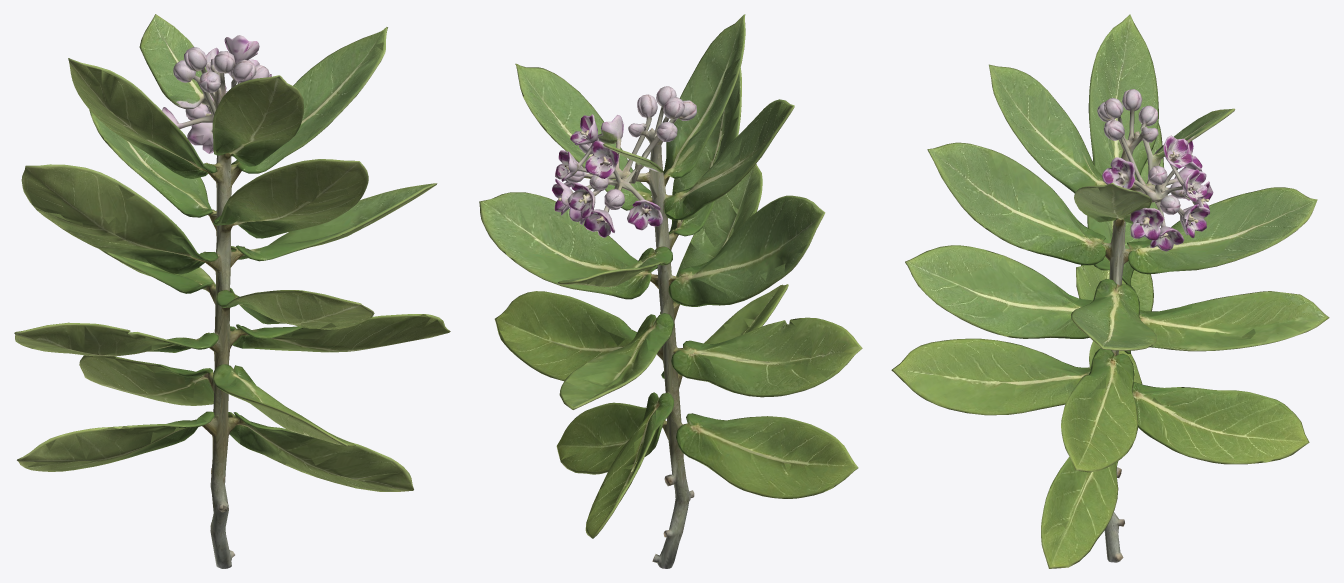
File: planta_danaus_2.fbx
The picture shows the model from 3 angles, left to right: view 1: azimuth 30°, elevation 25°; view 2: azimuth 150°, elevation 25°; view 3: azimuth 270°, elevation 25°; orthographic projection. The views are drawn at different scales.
Visible parts, largest first — view 1: tripo_node_4eed94f3; view 2: tripo_node_4eed94f3; view 3: tripo_node_4eed94f3.
Boxes of the visible parts, <box> form: tripo_node_4eed94f3: <box>14,14,450,568</box>; tripo_node_4eed94f3: <box>479,14,862,568</box>; tripo_node_4eed94f3: <box>891,14,1329,568</box>.
Size of the model in its own units: 7.24 by 9.04 by 7.35.
Materials: 1 (1 with a texture image).
